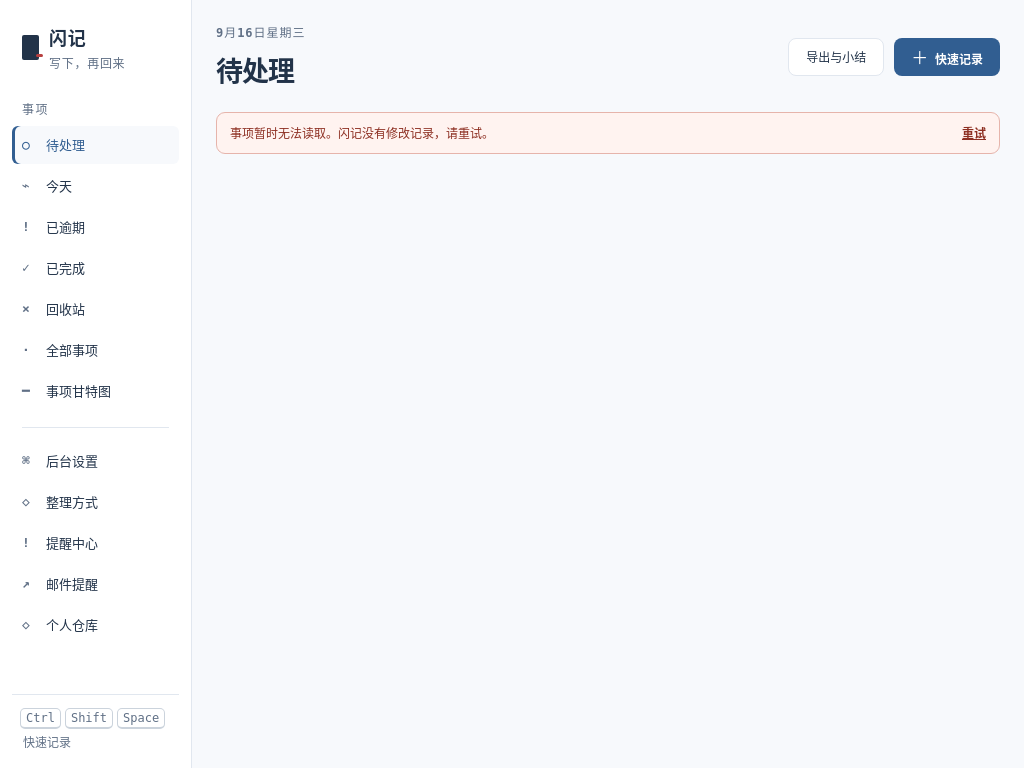
Test case: 工作台读取恢复 › 读取失败不暴露内部错误，重试后回到事项列表
Expected: the text "事项暂时无法读取。闪记没有修改记录，请重试。" is shown, [230,124,494,143]
Expected: the text "这里暂时是空的" is not shown
Click the button "重试" at x=974, y=133, box [962,124,986,143]
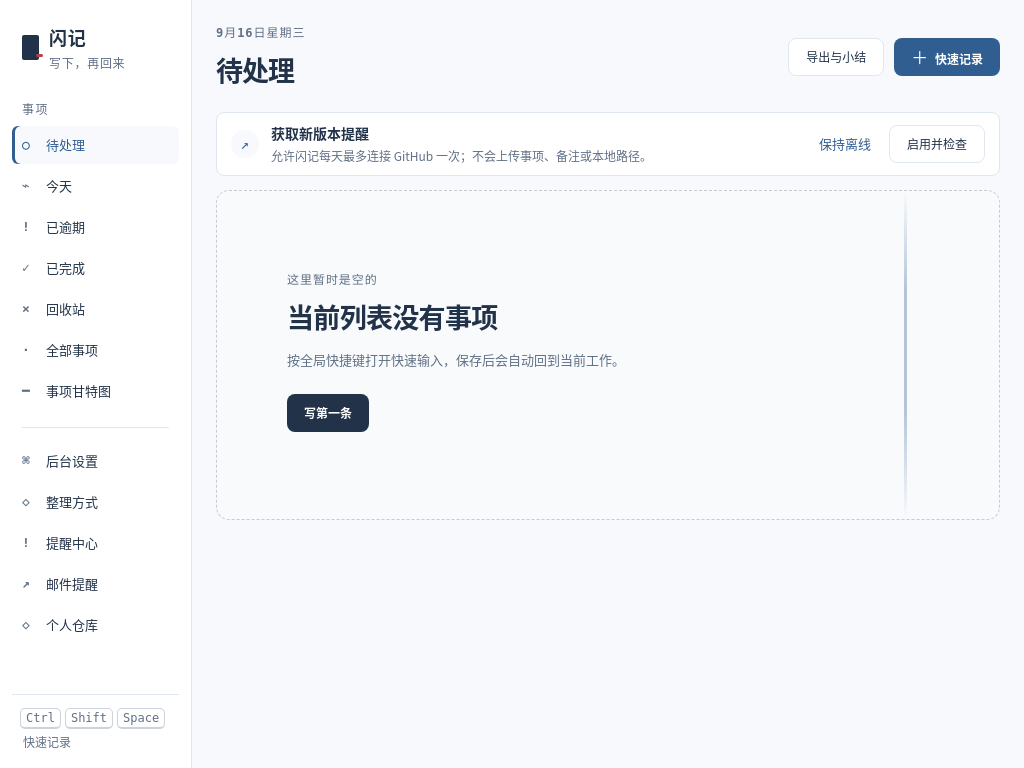
Expected: the text "这里暂时是空的" is shown, [287,272,378,286]
Expected: the message "事项暂时无法读取。闪记没有修改记录，请重试。 重试" is gone
